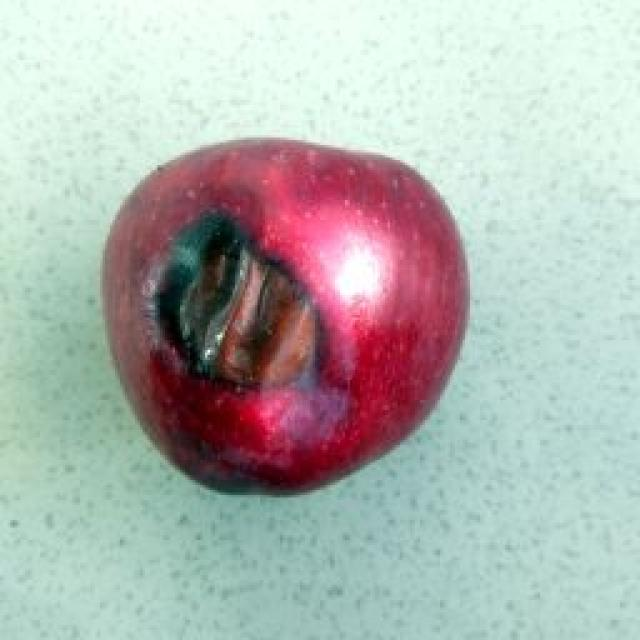Bad_Apple: (102, 139, 468, 489)
